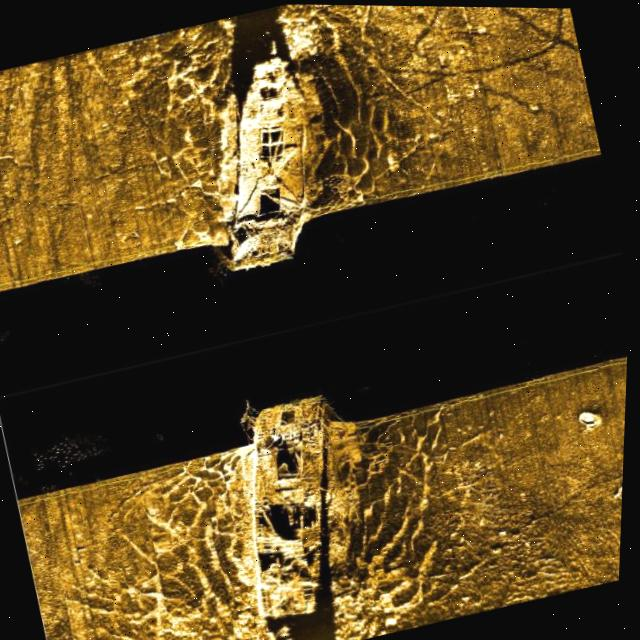shipwreck: (218, 383, 392, 627), (179, 49, 342, 276)
